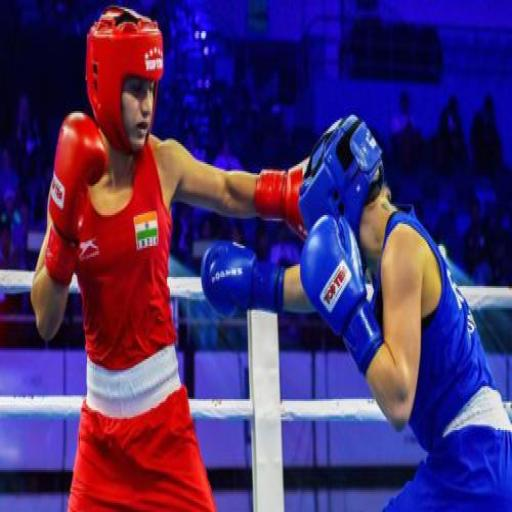boxing: (29, 4, 311, 510), (197, 76, 512, 510)
